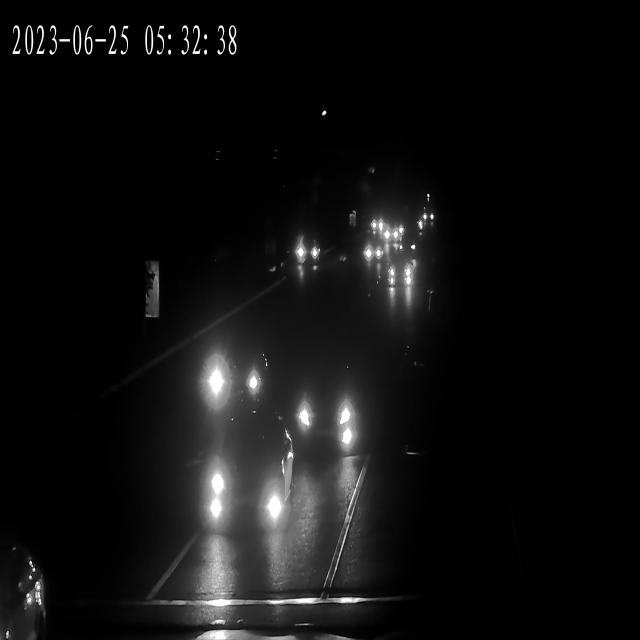Car: (206, 408, 292, 547), (291, 372, 363, 457), (199, 335, 273, 412), (0, 538, 48, 640), (296, 233, 322, 276), (388, 256, 416, 289), (364, 239, 384, 266), (420, 206, 434, 233), (388, 226, 402, 245), (370, 215, 382, 235)
